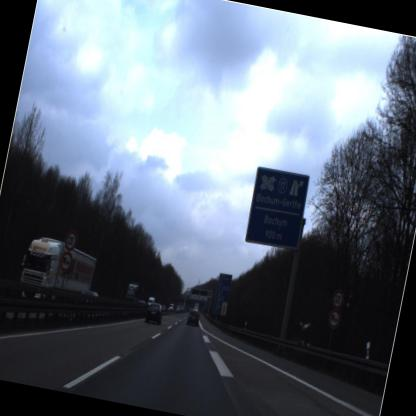prohibitory: (322, 308, 346, 337), (60, 224, 82, 254), (54, 248, 76, 278), (327, 282, 346, 311)
